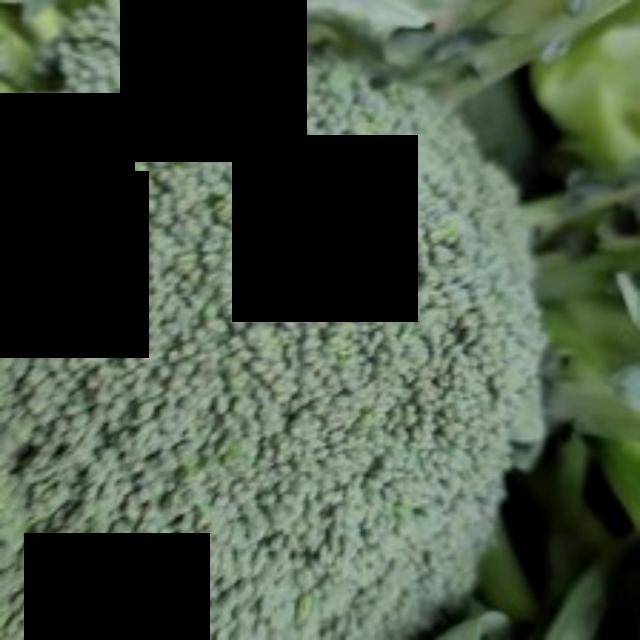broccoli: (0, 0, 542, 637)
